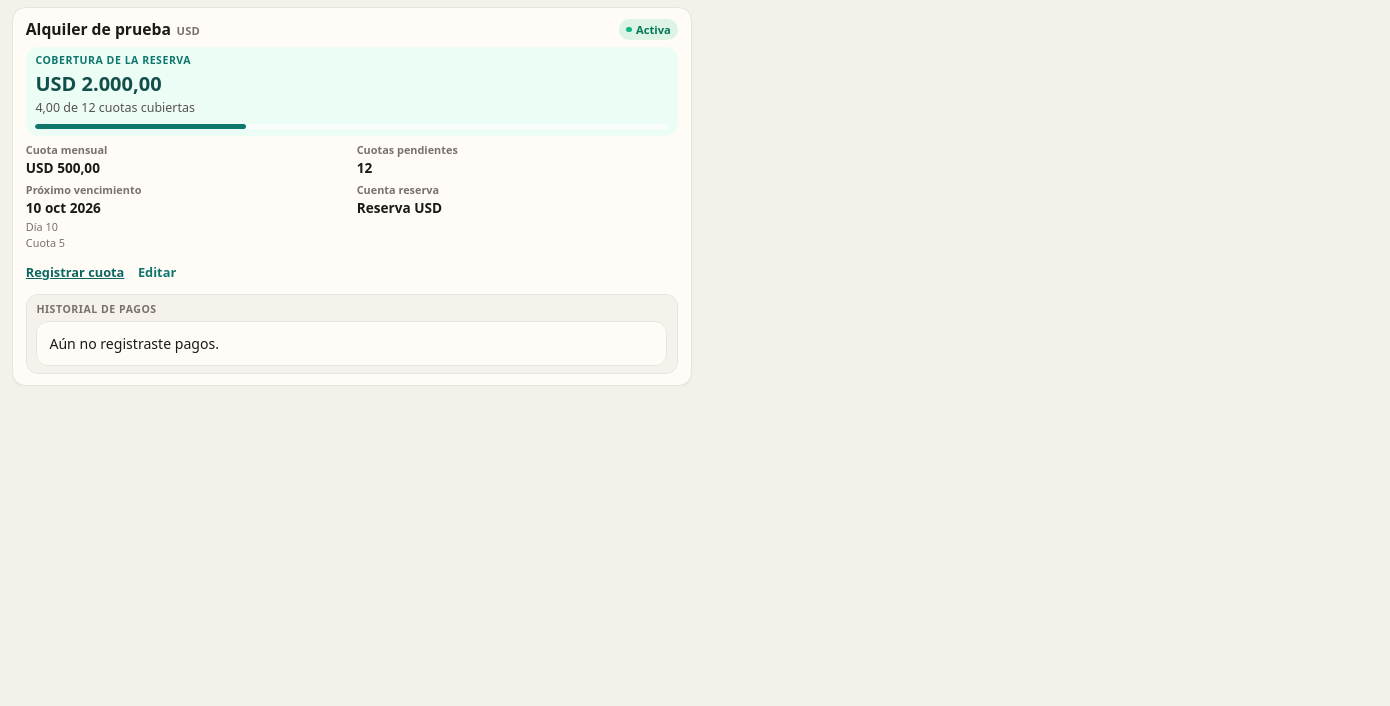
Test case: HousingPage › shows a readable payment backend error
Click the button "Registrar cuota" at {"x": 75, "y": 273}, box 26,258 -> 124,288
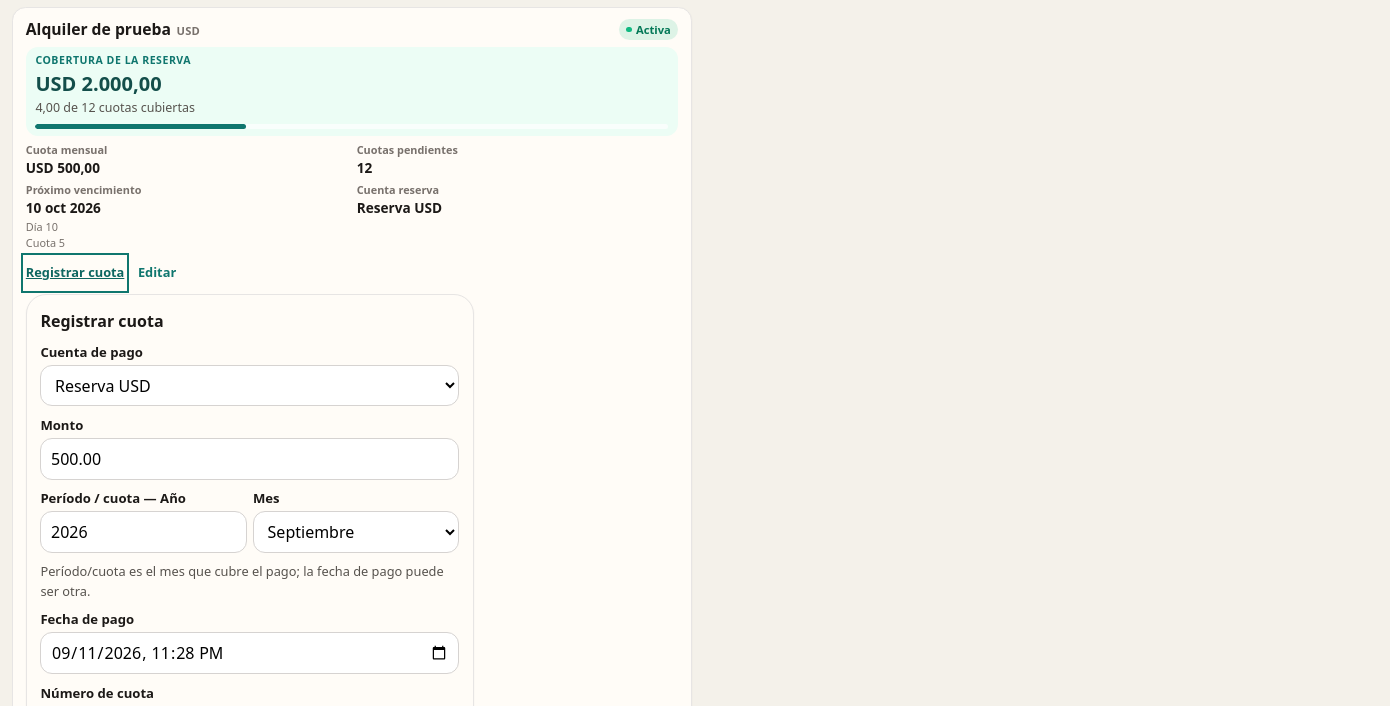
Select "Reserva USD" in the dropdown labelled "Cuenta de pago" at {"x": 250, "y": 386}, box 40,365 -> 459,406
(page scrolled)
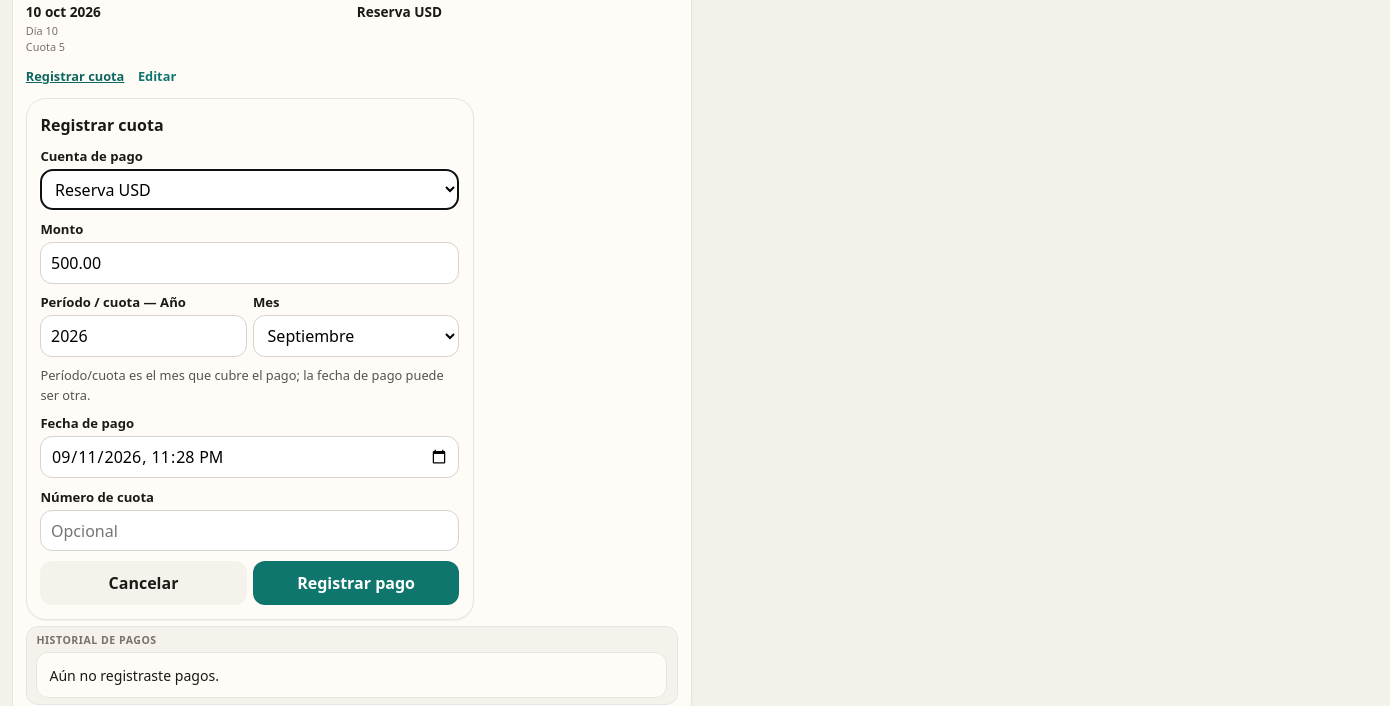
Click the button "Registrar pago" at {"x": 356, "y": 583}, box 253,561 -> 459,605
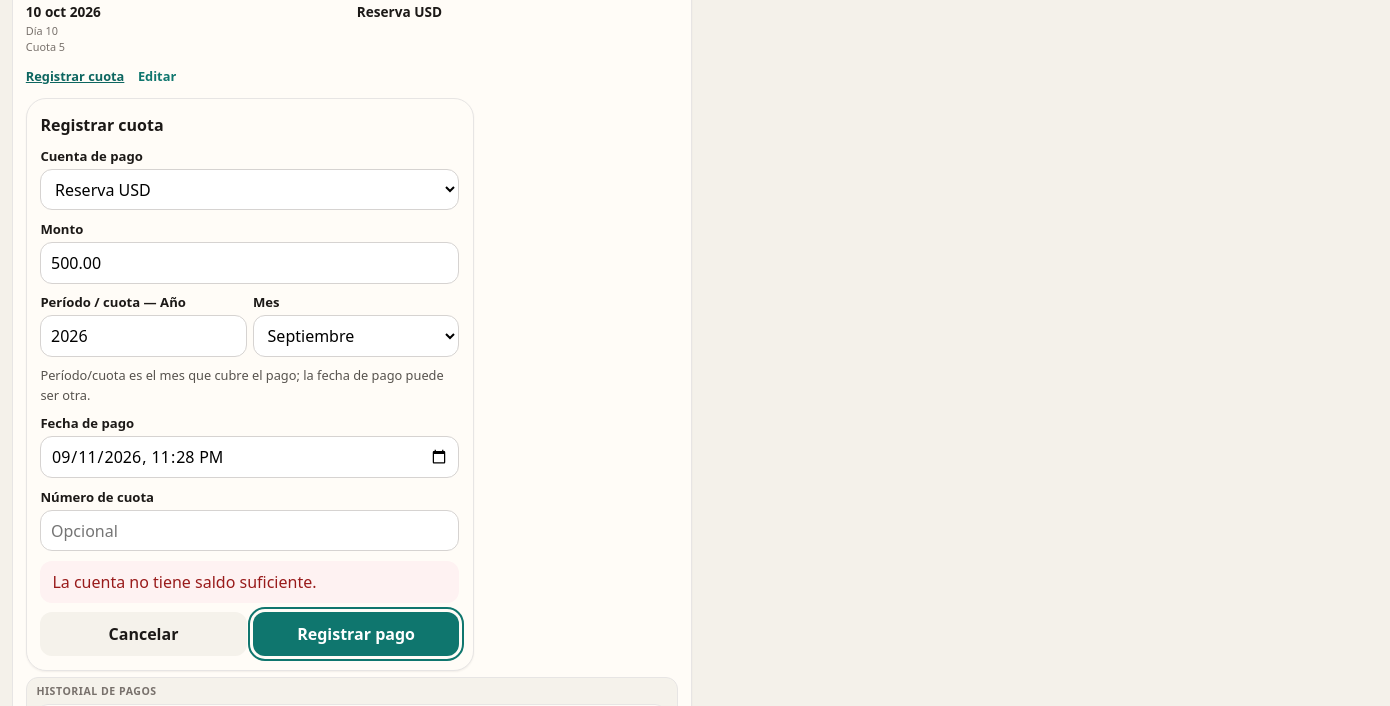
Expected: the text "La cuenta no tiene saldo suficiente." is shown, 40,561 -> 459,602
